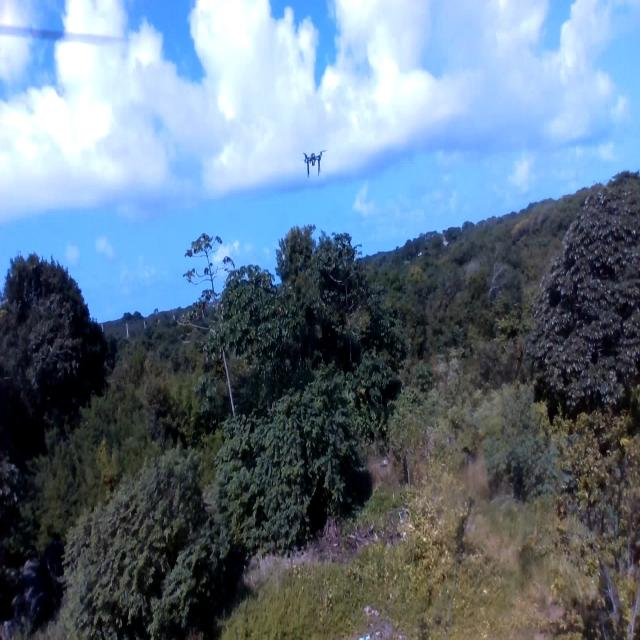-uav-: (298, 140, 330, 183)
